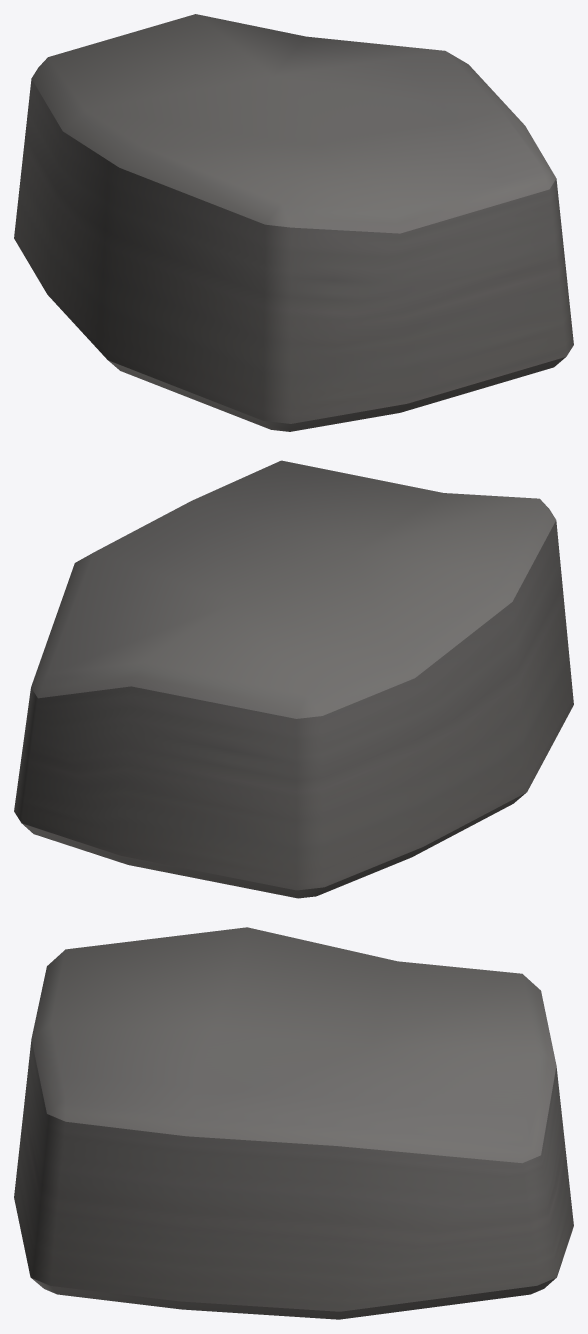
Rendered from StoneBlock_4_2.obj.
The picture shows the model from 3 angles, top to bottom: view 1: azimuth 30°, elevation 25°; view 2: azimuth 150°, elevation 25°; view 3: azimuth 270°, elevation 25°; orthographic projection. The views are drawn at different scales.
Parts seen in each view (by area): view 1: StoneBlock_4_2; view 2: StoneBlock_4_2; view 3: StoneBlock_4_2.
Part boxes in pixels (x1,y1,x2,y2): StoneBlock_4_2: (14,14,573,431); StoneBlock_4_2: (14,460,573,898); StoneBlock_4_2: (14,927,573,1319).
Bounding box in the file's own units: 0.6684 × 0.3345 × 0.7902.
